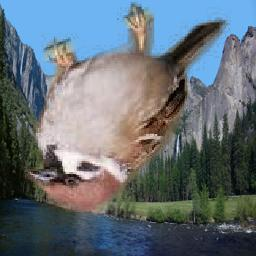Sparrow: (24, 2, 233, 212)
